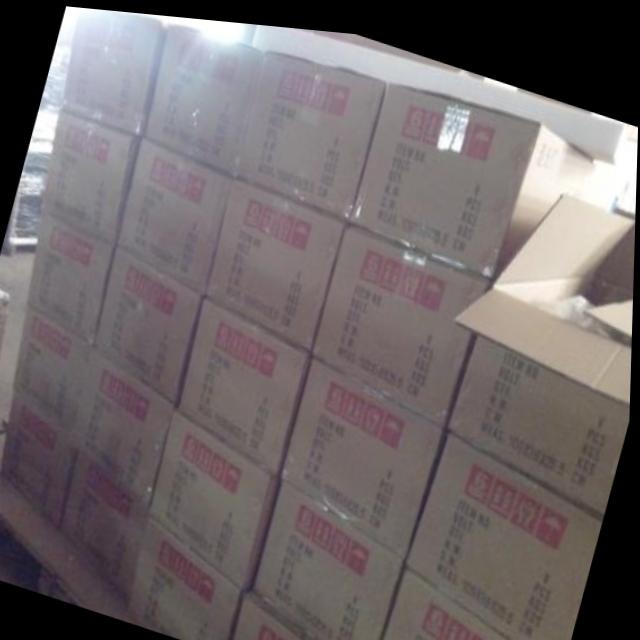box: (449, 184, 636, 501), (349, 74, 621, 272), (408, 422, 605, 640), (313, 217, 491, 414), (283, 350, 447, 554), (256, 466, 406, 640), (236, 45, 385, 211), (151, 401, 283, 586), (205, 173, 345, 346), (179, 292, 310, 469), (117, 135, 233, 291), (144, 20, 262, 173), (98, 243, 203, 403), (77, 344, 176, 508), (126, 510, 245, 640), (58, 448, 152, 600), (39, 109, 141, 242), (61, 6, 161, 133), (382, 556, 531, 640), (28, 207, 115, 345), (13, 303, 96, 446), (1, 400, 78, 527), (232, 580, 335, 640)
